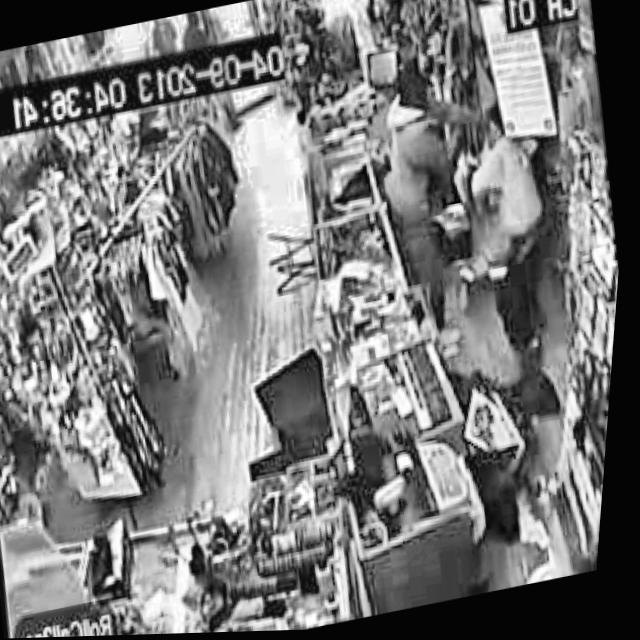robbery: (349, 51, 572, 302)
